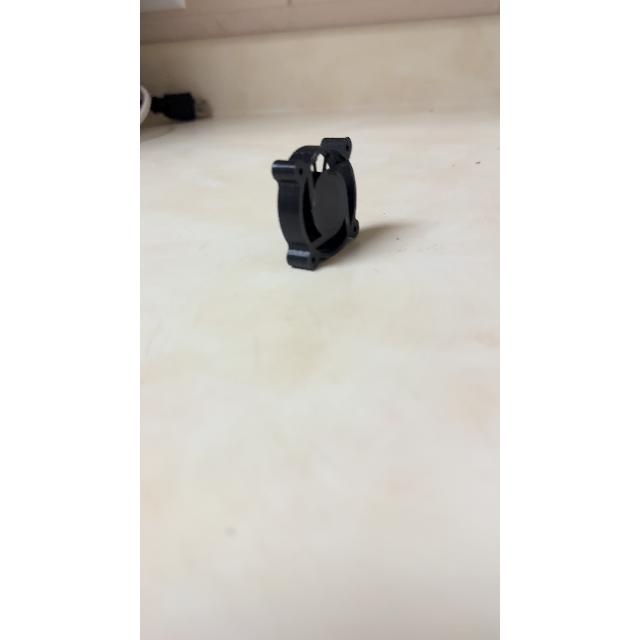Pieza_4: (249, 122, 389, 278)
